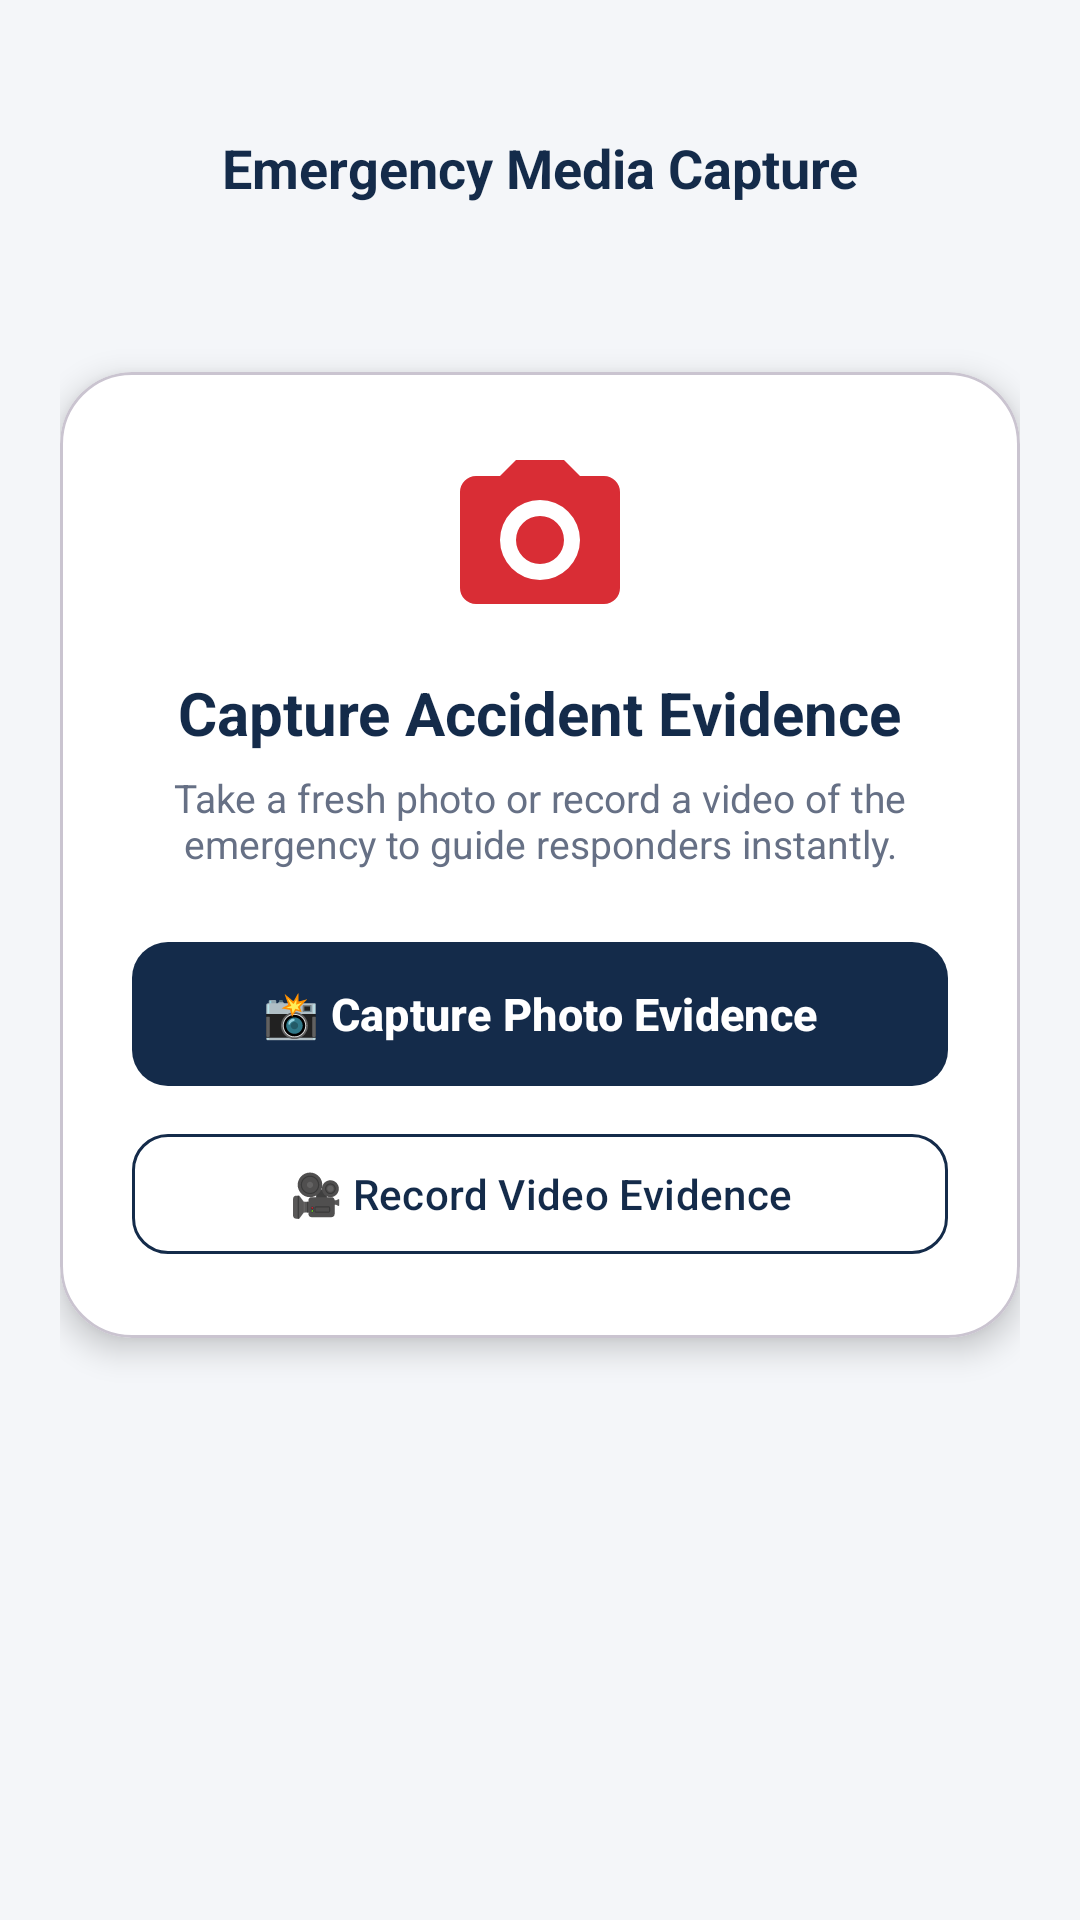

Named icons in this screenshot (1080 × 1920) and their bounding boxes, (x1=x1, y1=y1, x2=x2, y2=y2):
camera: (x1=460, y1=460, x2=620, y2=604)
